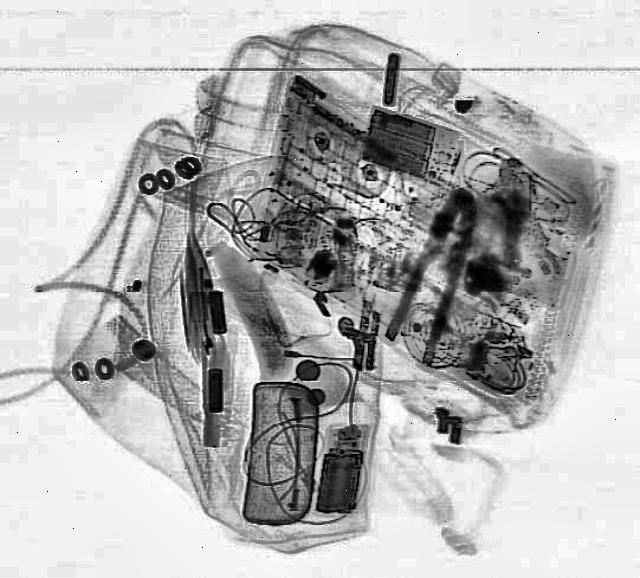Pliers: (374, 180, 491, 365)
